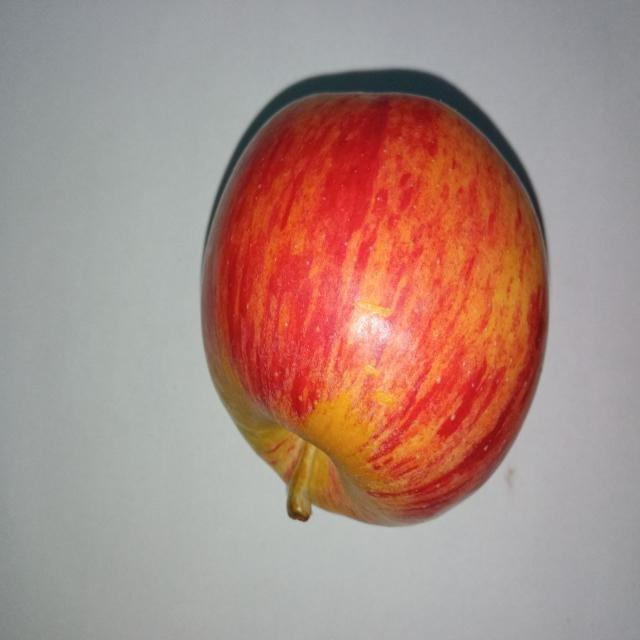fresh_apple: (199, 85, 546, 532)
